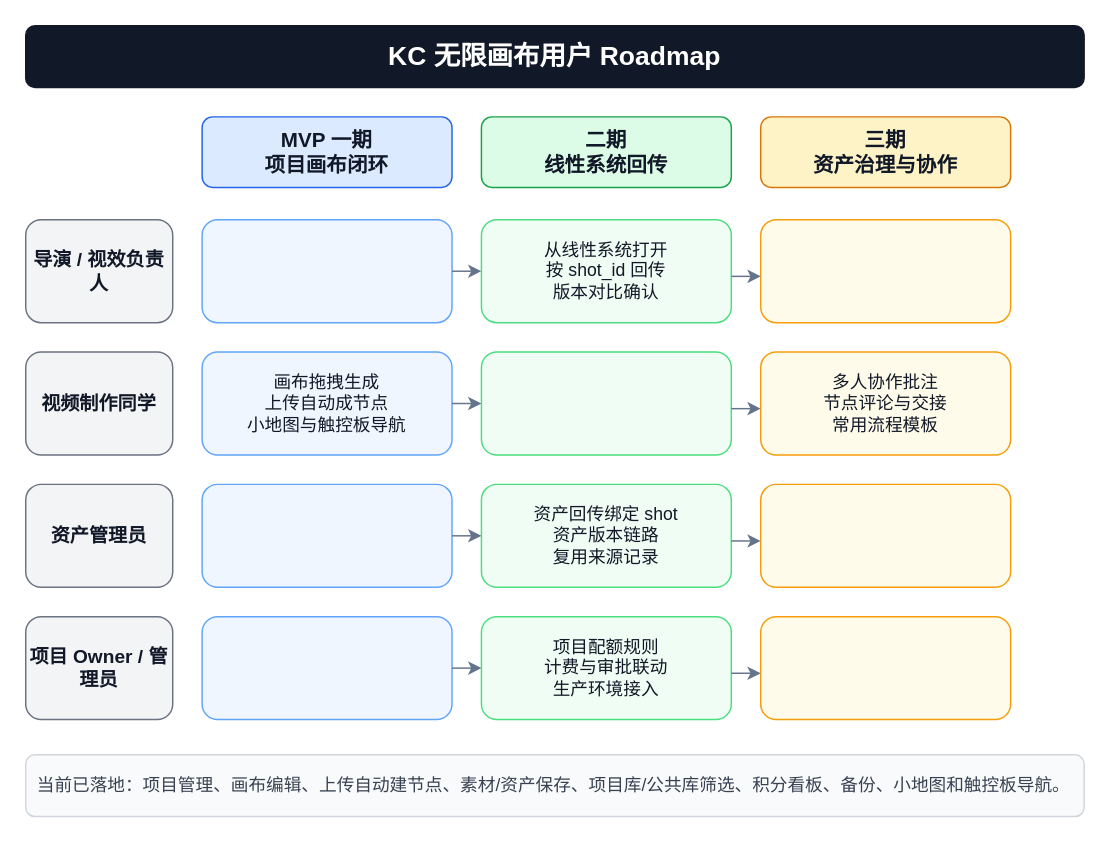
Image size: 1110x842. Some labels were removed from this diagram. Each missing label, with the centre of its shape:
审批关键资产 沉淀共用模板 跨项目复用: point 885,270
新建 / 筛选项目 积分看板 导入导出备份: point 326,667
标签体系治理 权限与授权范围 资产质量看板: point 885,535
生成结果一键回传 失败任务重试 日志追溯: point 605,403
组织级仪表盘 成本归因 审计与权限报表: point 885,667
进入项目看进度 按分镜定位结果 预览画布版本: point 326,270
项目库 / 公共库筛选 保存为素材或资产 替换资产版本: point 326,535
